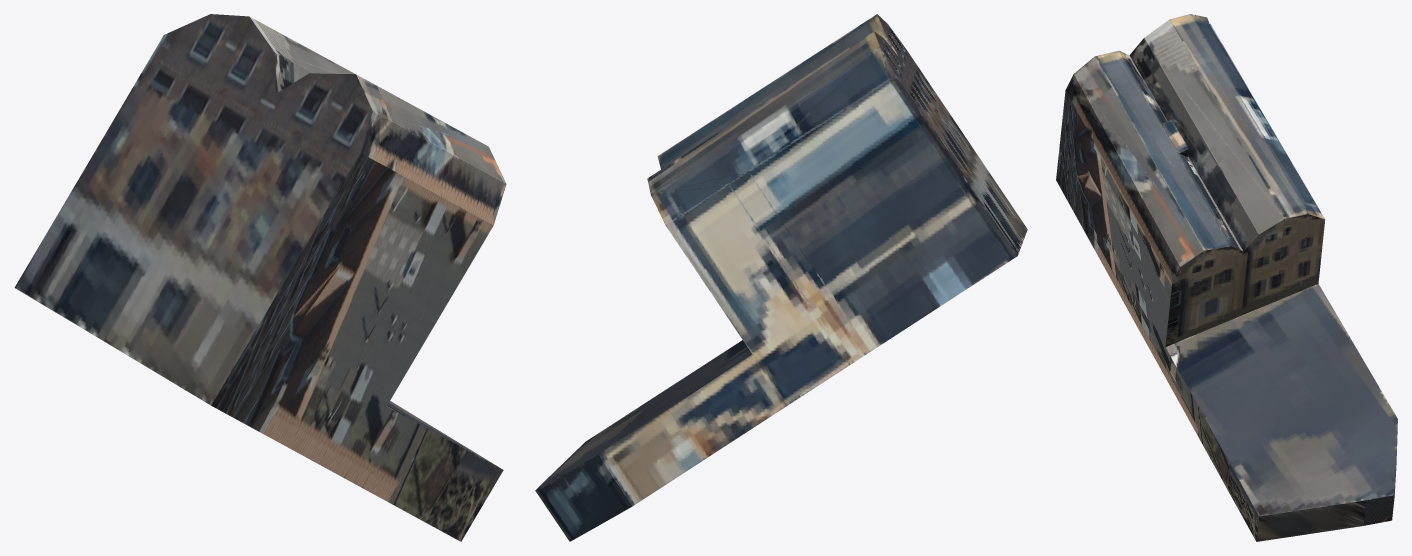
3 views of the same model, side by side, from view 1: azimuth 30°, elevation 25°; view 2: azimuth 150°, elevation 25°; view 3: azimuth 270°, elevation 25° (orthographic). The views are drawn at different scales.
Parts seen in each view (by area): view 1: BAG_0599100000656917 (×7); view 2: BAG_0599100000656917 (×6); view 3: BAG_0599100000656917 (×9).
Boxes of the visible parts, x1,y1,x2,y2 form: BAG_0599100000656917 (×7): (14, 14, 506, 541); BAG_0599100000656917 (×6): (535, 14, 1027, 541); BAG_0599100000656917 (×9): (1056, 14, 1397, 541).
Bounding box in the file's own units: 23.74 × 27.16 × 19.5.
10 materials, 9 textured.
